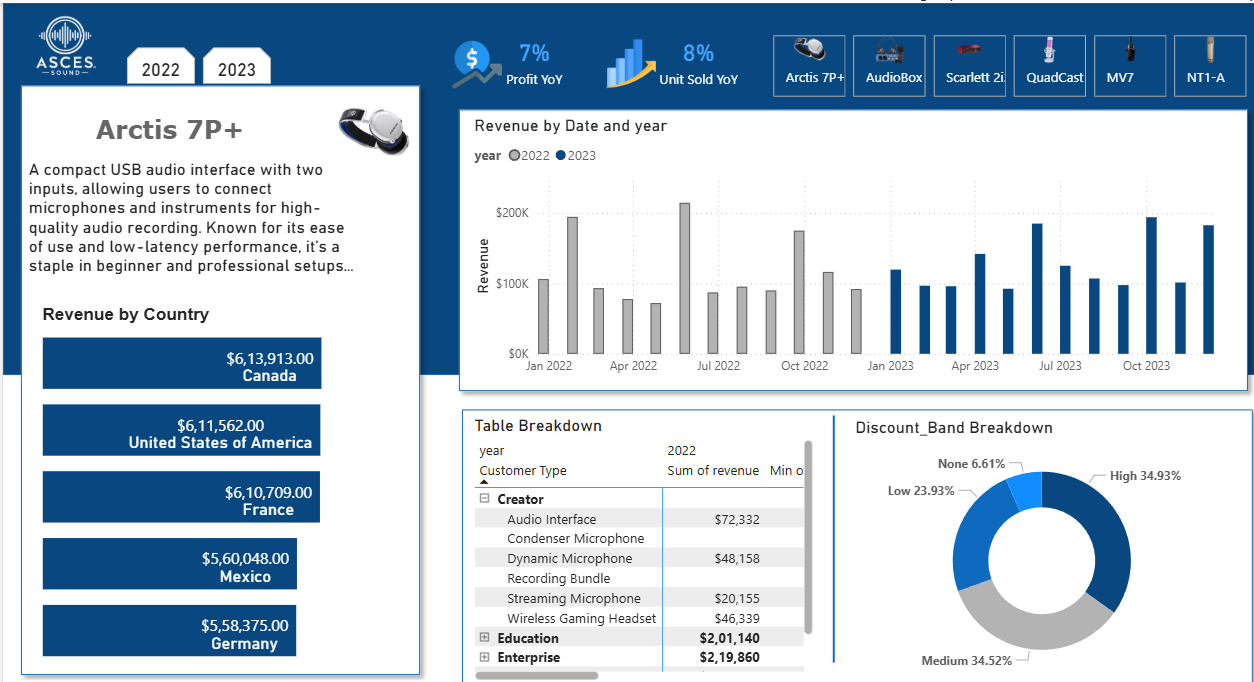

Layout of this report page (visuals, bound fields, positions):
{"tool":"powerbi","page":{"name":"Page 1","canvas":[1280,720],"ordinal":0},"visuals":[{"type":"shape","box":[0,0,1270.4,375.5],"z":0},{"type":"shape","box":[9.1,74.2,420.9,613.3],"z":1000},{"type":"shape","box":[451.7,98.3,814.5,302.4],"z":2000},{"type":"shape","box":[453.5,400.6,816.4,300.5],"z":3000},{"type":"image","box":[18.9,0,83.2,83.2],"z":4000},{"type":"advancedSlicerVisual","fields":{"Values":["Query1.Image url"]},"box":[772.7,26.8,492.1,72.7],"z":5000},{"type":"cardVisual","fields":{"Data":["Min(Query1.Product)"]},"box":[318,53,118.1,174.1],"z":6000},{"type":"cardVisual","fields":{"Data":["Min(Query1.Description)"]},"box":[9.1,109,368,205.9],"z":7000},{"type":"clusteredBarChart","title":"Revenue by Country","fields":{"Category":["Query1.Country"],"Y":["Sum(Query1.revenue)"]},"box":[34.8,304.4,375.5,361.9],"z":8000},{"type":"clusteredColumnChart","title":"Revenue by Date and year","fields":{"Category":["Query1.Date"],"Y":["Sum(Query1.revenue)"],"Series":["Query1.year"]},"box":[470.6,113.4,771,270.2],"z":9000},{"type":"donutChart","title":"Discount_Band Breakdown","fields":{"Category":["Query1. Discount Band "],"Y":["Sum(Query1.revenue)"]},"box":[856.1,417.6,385.5,270.2],"z":10000},{"type":"pivotTable","title":"Table Breakdown","fields":{"Rows":["Query1.Customer Type","Query1.Category"],"Columns":["Query1.year"],"Values":["Sum(Query1.revenue)","Min(Query1.Profit)"]},"box":[470.6,415.8,351.5,272.1],"z":11000},{"type":"shape","box":[820.2,415.8,35.9,249.5],"z":12000},{"type":"cardVisual","fields":{"Data":["Query1.Profit YoY","Query1.Unit Sold YoY"]},"box":[410.3,18.2,364.9,90.9],"z":13000},{"type":"advancedSlicerVisual","fields":{"Values":["Date Table.Date.Variation.Date Hierarchy.Year"]},"box":[119.6,40,157.5,42.4],"z":14000},{"type":"card","fields":{"Values":["Min(Query1.Product)"]},"box":[18.2,98.4,299.8,60.6],"z":15000}]}

Visuals, with their boxes on the page's 1280x720 design canvas (x1, y1, x2, y2). These are canvas units, not pixel positions in the 1254x682 screenshot, which may show the page scaled, cropped or inside an application window:
shape: x1=0 y1=0 x2=1270 y2=376
shape: x1=9 y1=74 x2=430 y2=688
shape: x1=452 y1=98 x2=1266 y2=401
shape: x1=454 y1=401 x2=1270 y2=701
image: x1=19 y1=0 x2=102 y2=83
advancedSlicerVisual - Query1.Image url: x1=773 y1=27 x2=1265 y2=100
cardVisual - Min(Query1.Product): x1=318 y1=53 x2=436 y2=227
cardVisual - Min(Query1.Description): x1=9 y1=109 x2=377 y2=315
"Revenue by Country" clusteredBarChart: x1=35 y1=304 x2=410 y2=666
"Revenue by Date and year" clusteredColumnChart: x1=471 y1=113 x2=1242 y2=384
"Discount_Band Breakdown" donutChart: x1=856 y1=418 x2=1242 y2=688
"Table Breakdown" pivotTable: x1=471 y1=416 x2=822 y2=688
shape: x1=820 y1=416 x2=856 y2=665
cardVisual - Query1.Profit YoY x Query1.Unit Sold YoY: x1=410 y1=18 x2=775 y2=109
advancedSlicerVisual - Date Table.Date.Variation.Date Hierarchy.Year: x1=120 y1=40 x2=277 y2=82
card - Min(Query1.Product): x1=18 y1=98 x2=318 y2=159
